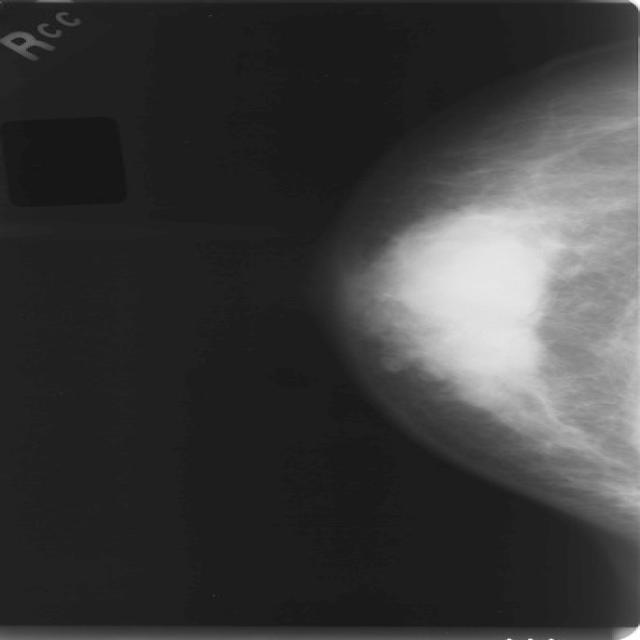tumour: (372, 208, 550, 420)
